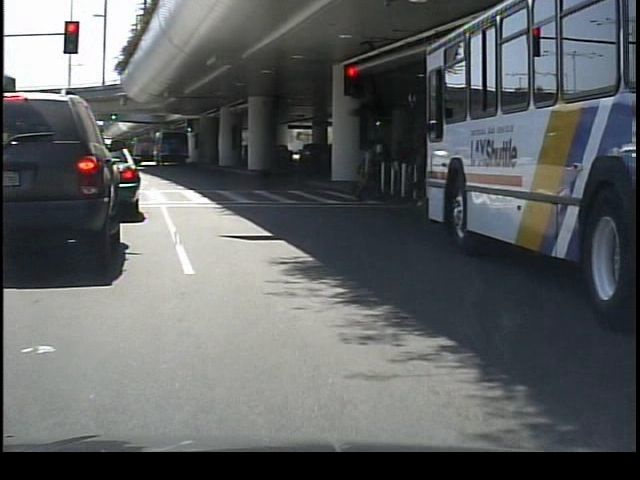person: (350, 137, 385, 204)
